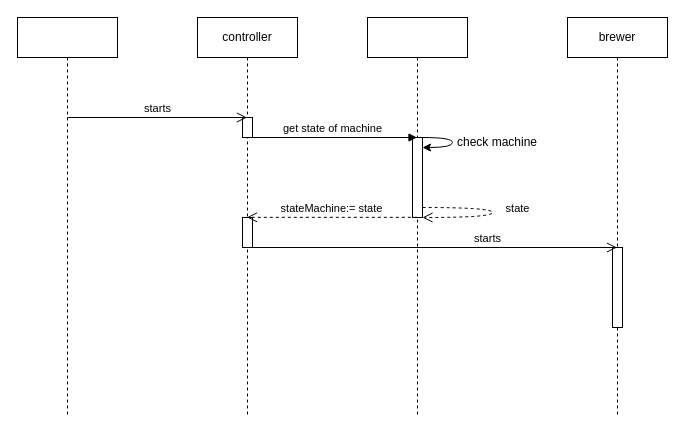
This 685x435 diagram has some shape labels left out. The box of each missing label's shape, as (x1, y1, x2, y2) in pixels:
sensor: (366, 16, 468, 418)
ui: (16, 16, 118, 418)
